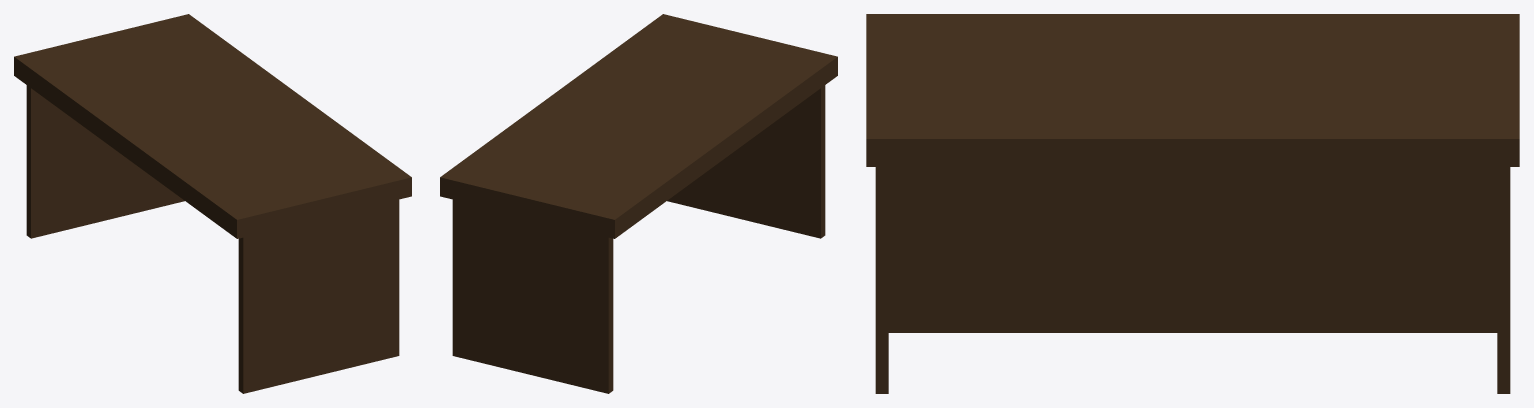
Rendered from officetable.fbx.
The picture shows the model from 3 angles, left to right: view 1: azimuth 30°, elevation 25°; view 2: azimuth 150°, elevation 25°; view 3: azimuth 270°, elevation 25°; orthographic projection. The views are drawn at different scales.
Parts seen in each view (by area): view 1: Cube; view 2: Cube; view 3: Cube.
Part boxes in pixels (x1=…): Cube: x1=14, y1=14, x2=411, y2=393; Cube: x1=440, y1=14, x2=837, y2=393; Cube: x1=866, y1=14, x2=1519, y2=393.
Bounding box in the file's own units: 90.8 × 88.71 × 201.
